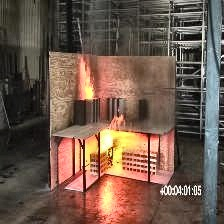fire: (96, 122, 135, 176), (73, 61, 102, 107)
